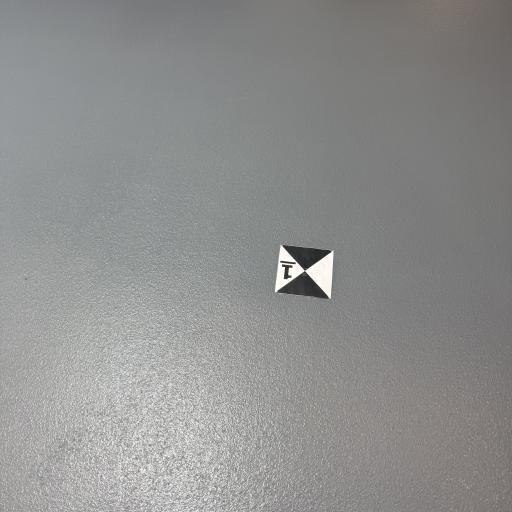target1: (276, 234, 344, 304)
